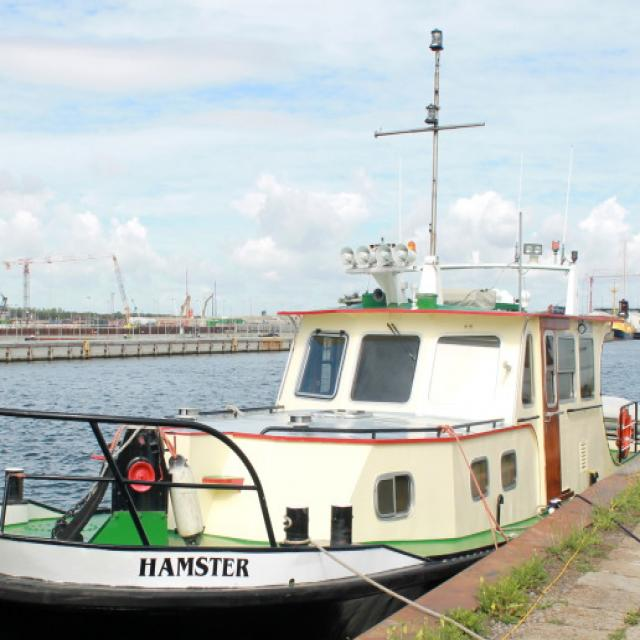tugboat: (1, 26, 640, 640)
